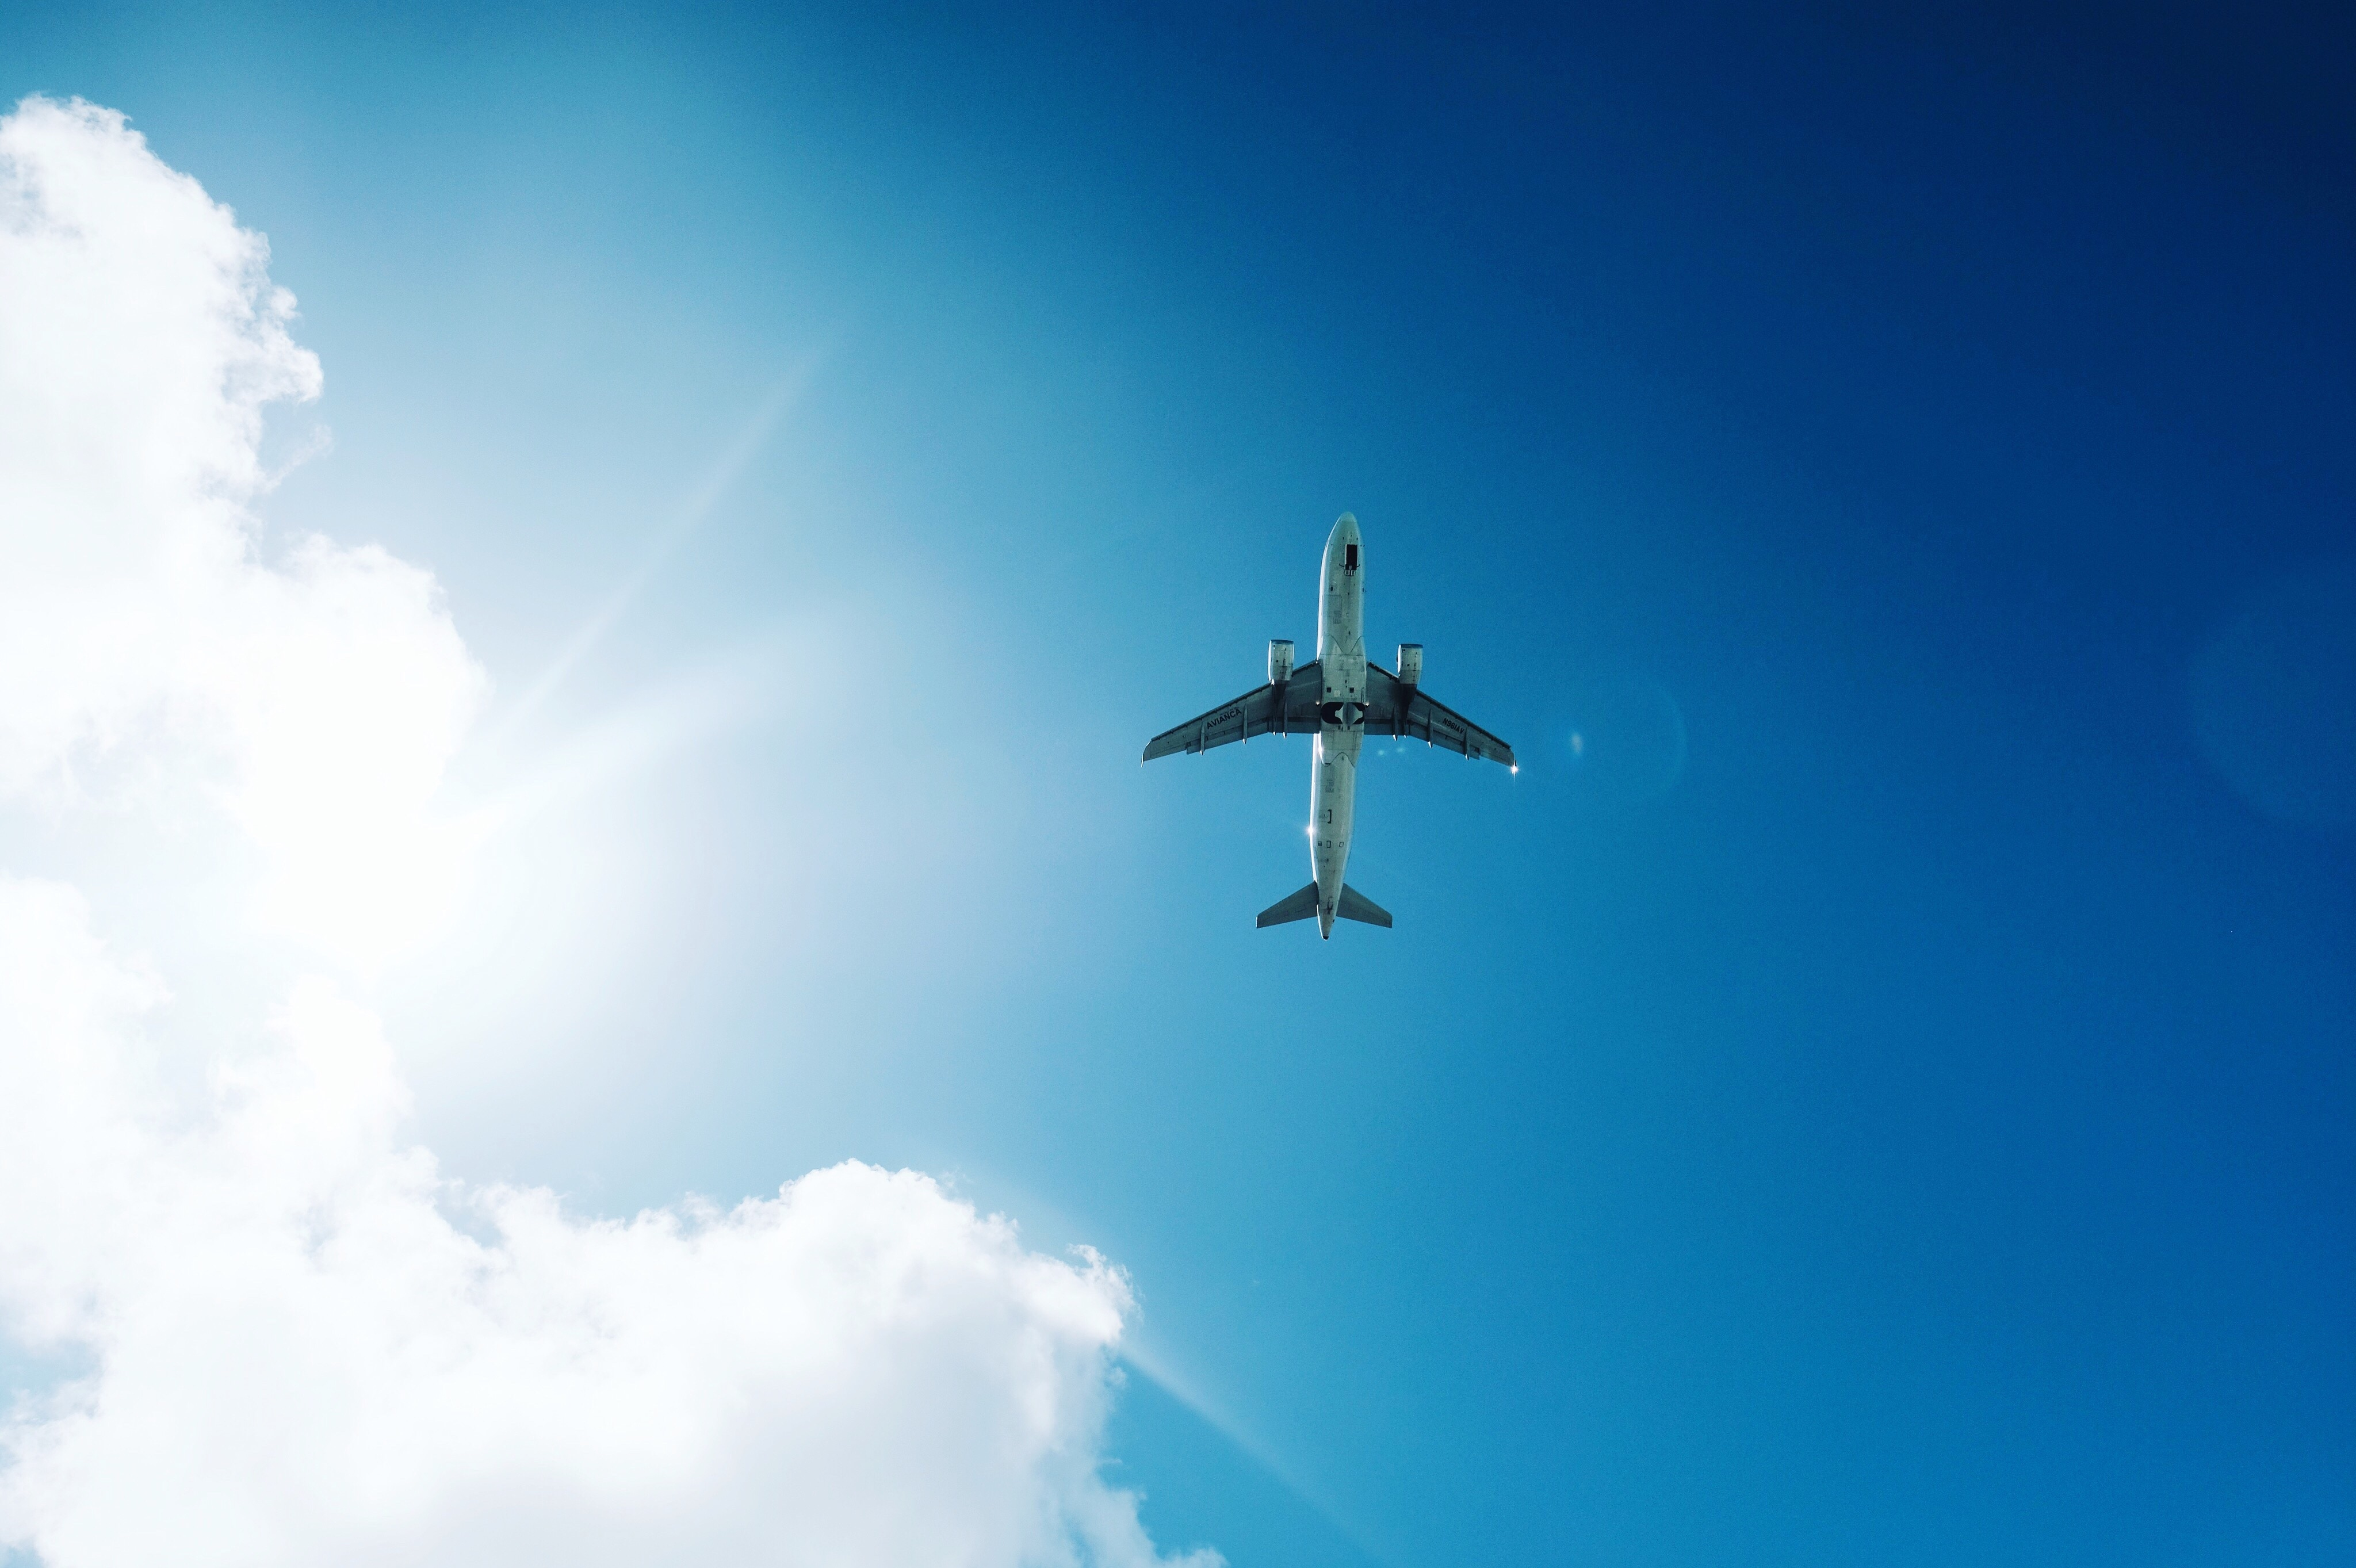plane: (1140, 502, 1527, 947)
